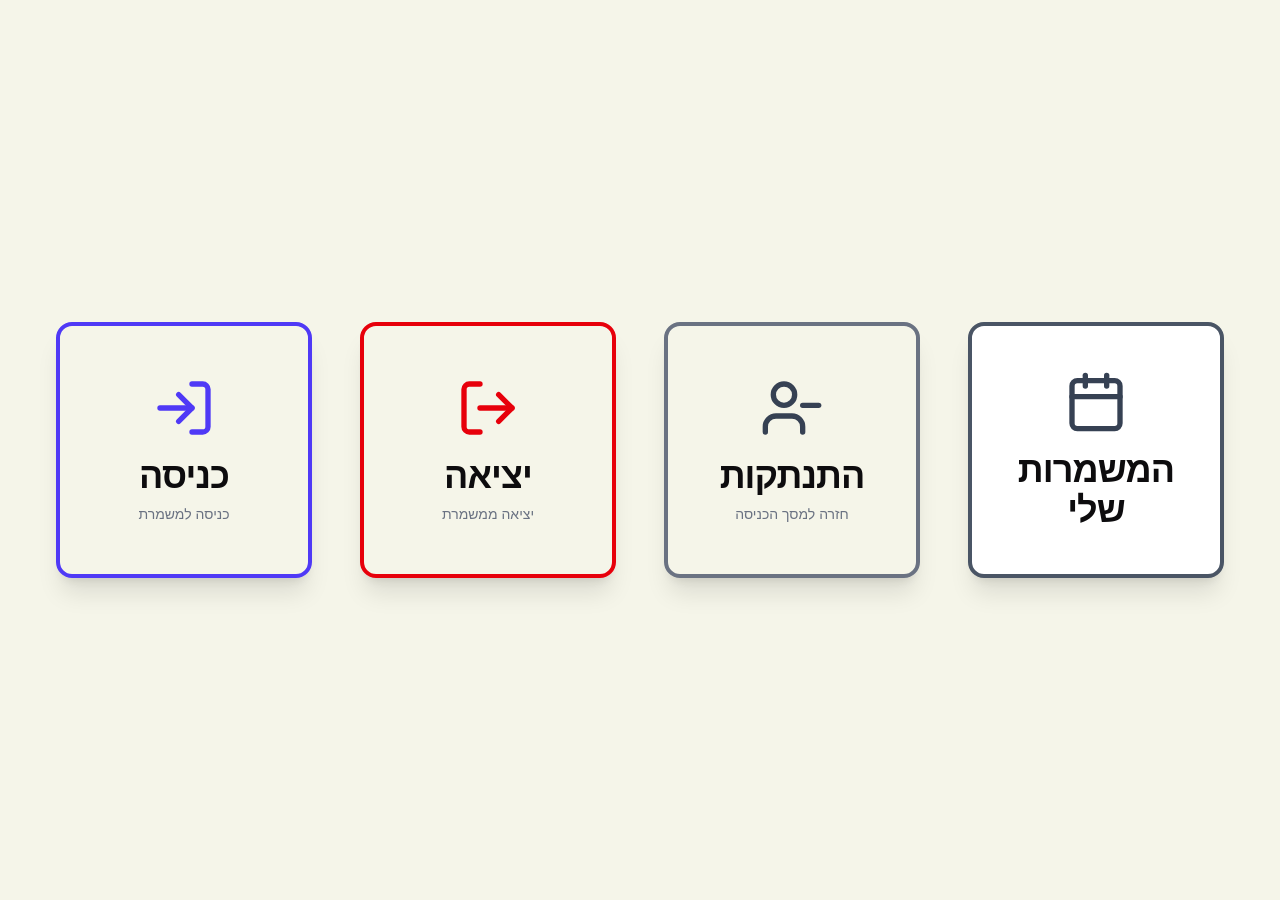
Test: IntermediatePage (Browser) › Exit Shift: Shows Modal if NO open shift exists
The image size is (1280, 900).
Click the heading "יציאה": x=488, y=476 [444,456,532,496]
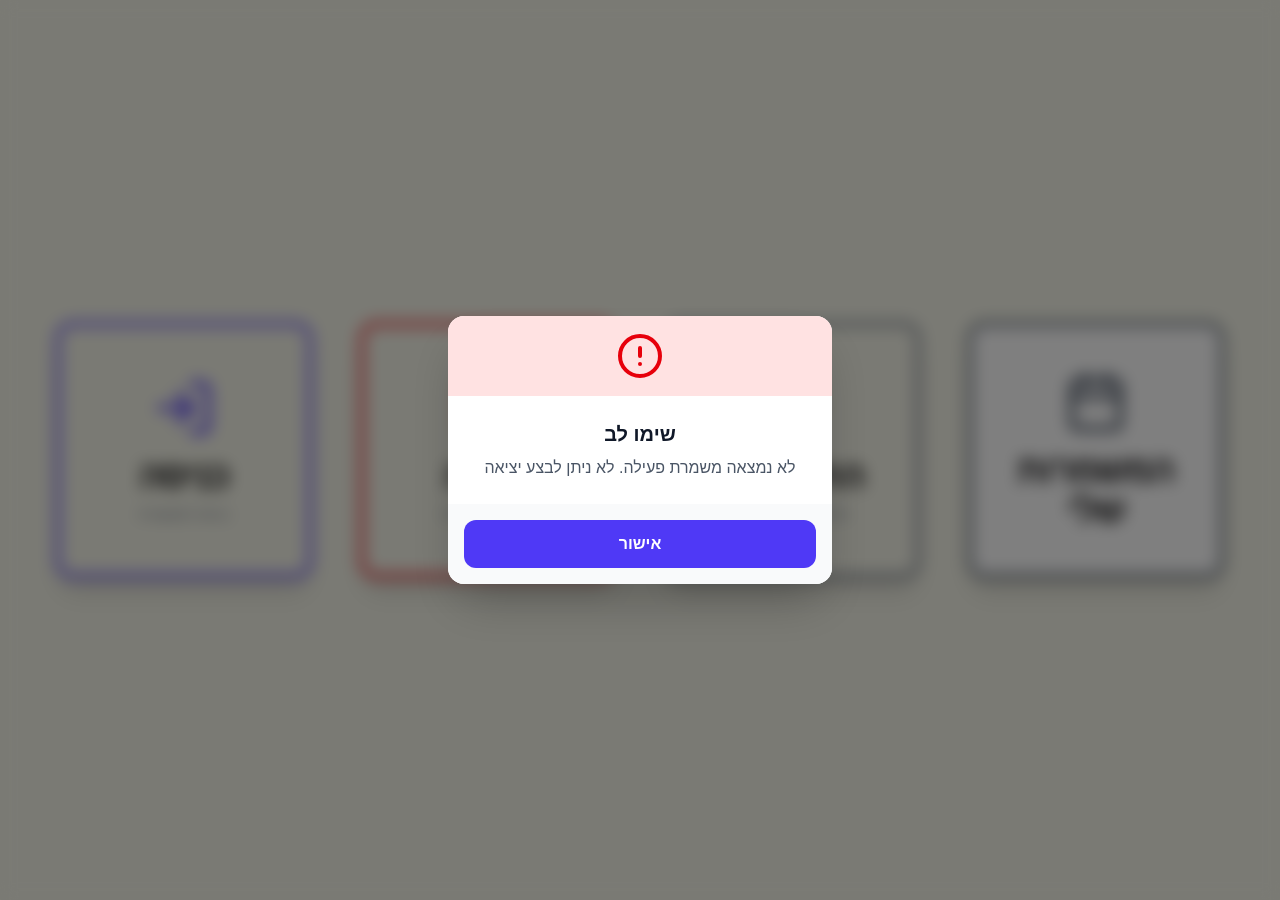
Expected: the text "לא נמצאה משמרת פעילה. לא ניתן לבצע יציאה" is shown, [472,456,808,480]
